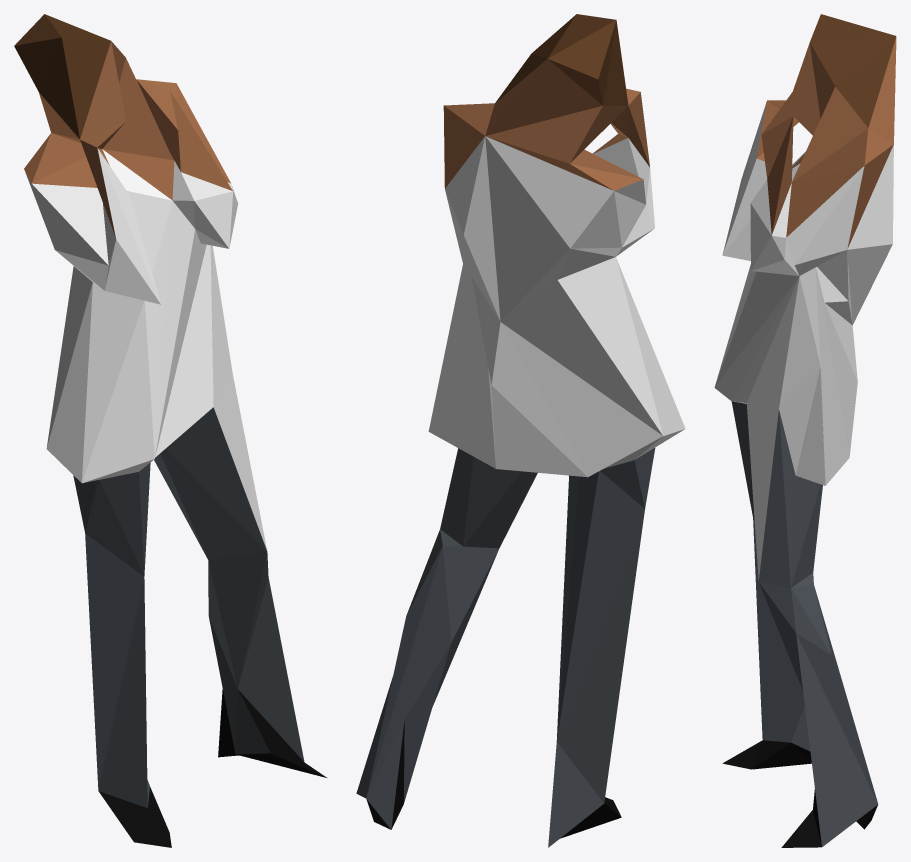
Rendered from walker-9.glb.
The picture shows the model from 3 angles, left to right: view 1: azimuth 30°, elevation 25°; view 2: azimuth 150°, elevation 25°; view 3: azimuth 270°, elevation 25°; orthographic projection. The views are drawn at different scales.
Parts seen in each view (by area): view 1: Woman06; view 2: Woman06; view 3: Woman06.
Part boxes in pixels (x1,y1,x2,y2): Woman06: [14, 14, 326, 847]; Woman06: [356, 14, 685, 847]; Woman06: [714, 14, 896, 847].
Size of the model in its own units: 0.5785 by 1.58 by 0.3605.
